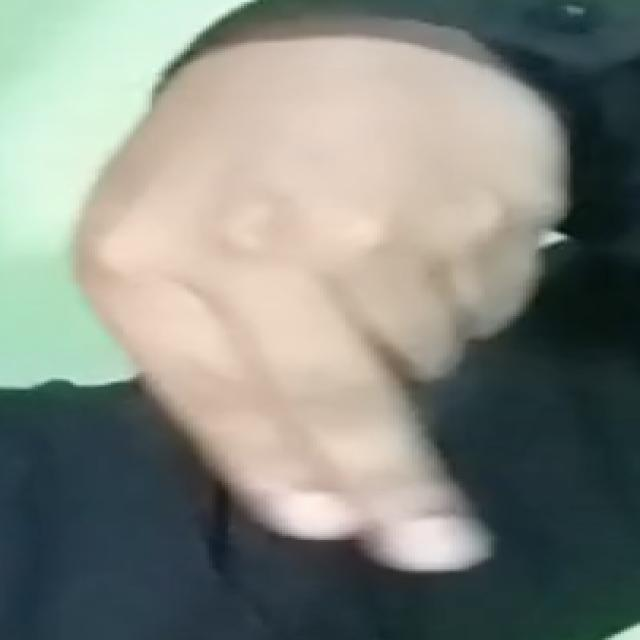N: (51, 30, 587, 585)
